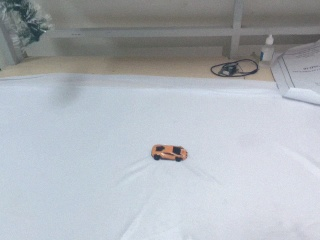toy_car: (151, 144, 188, 162)
